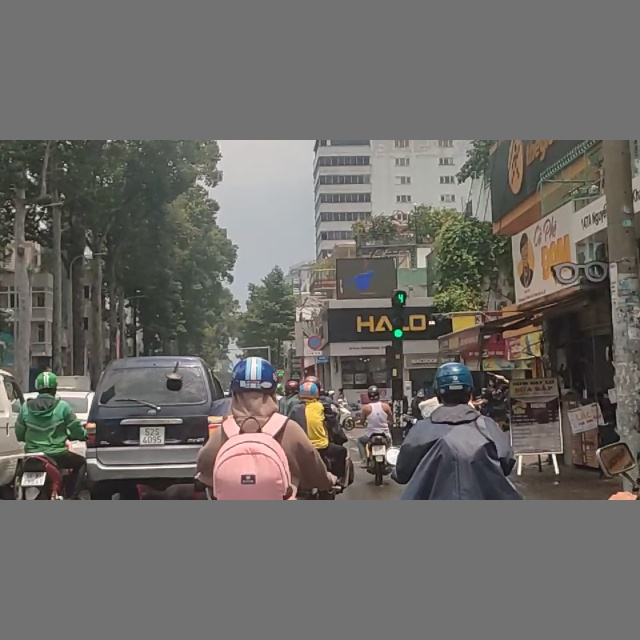P.131a: (308, 335, 323, 351)
